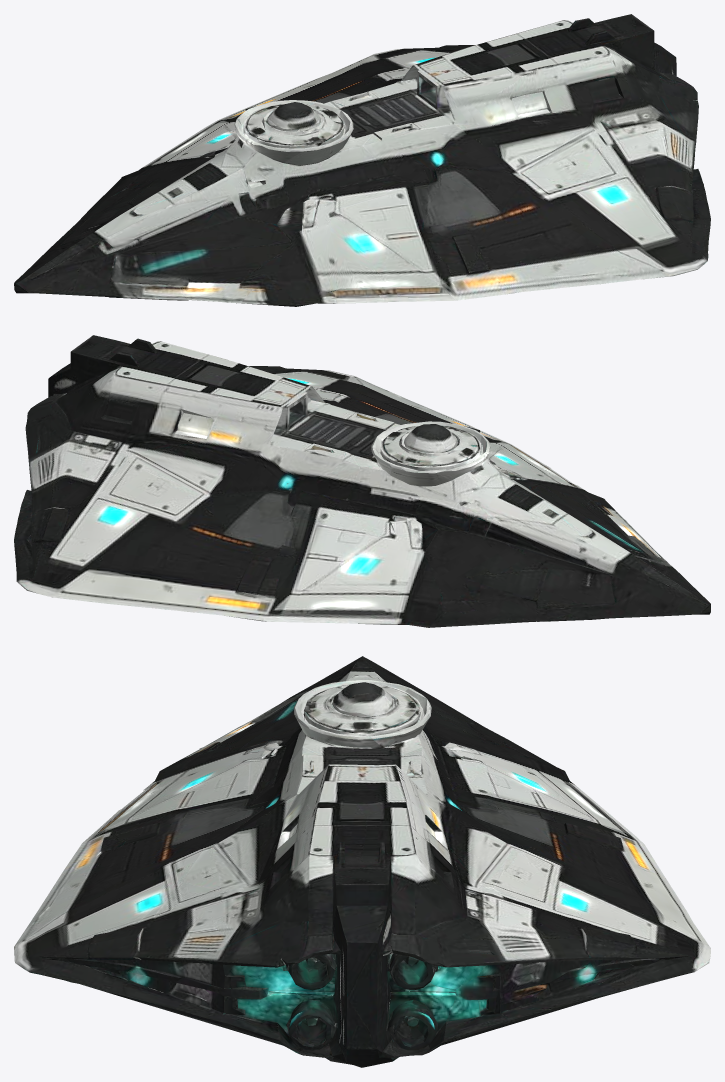
The model's file is vessel-mirror.glb.
3 renders of one model, top to bottom at view 1: azimuth 30°, elevation 25°; view 2: azimuth 150°, elevation 25°; view 3: azimuth 270°, elevation 25°, orthographic. The views are drawn at different scales.
Bounding box in the file's own units: 1.9 × 0.4518 × 1.51.
Materials: 1 (1 with a texture image).
